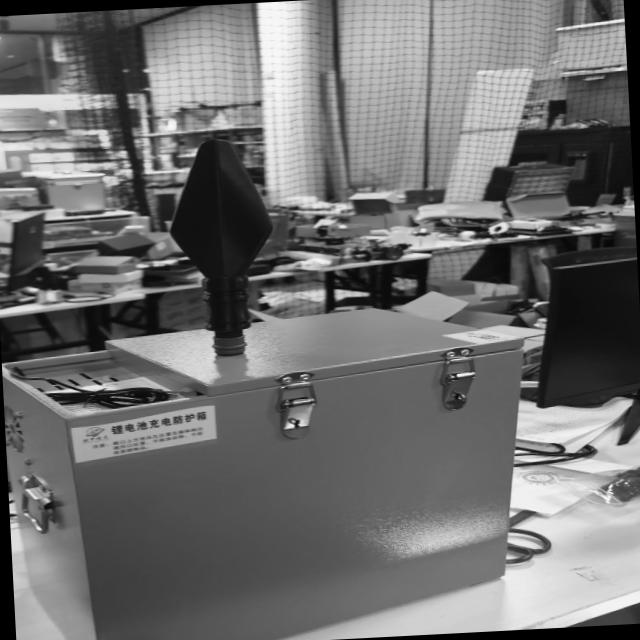base: (212, 334, 248, 354)
